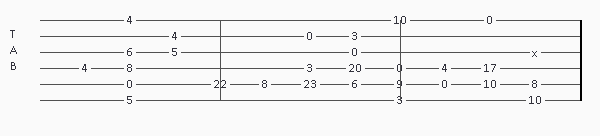0: (126, 78, 137, 90), (306, 30, 317, 42), (351, 46, 362, 58), (396, 62, 407, 74), (441, 78, 452, 90), (486, 14, 497, 26)
10: (393, 14, 411, 26), (483, 78, 501, 90), (528, 94, 546, 106)
17: (483, 62, 501, 74)
20: (348, 62, 366, 74)
22: (213, 78, 231, 90)
23: (303, 78, 321, 90)
3: (306, 62, 317, 74), (351, 30, 362, 42), (396, 94, 407, 106)
4: (81, 62, 92, 74), (126, 14, 137, 26), (171, 30, 182, 42), (441, 62, 452, 74)
5: (126, 94, 137, 106), (171, 46, 182, 58)
6: (126, 46, 137, 58), (351, 78, 362, 90)
8: (126, 62, 137, 74), (261, 78, 272, 90), (531, 78, 542, 90)
9: (396, 78, 407, 90)
x: (532, 47, 542, 57)
